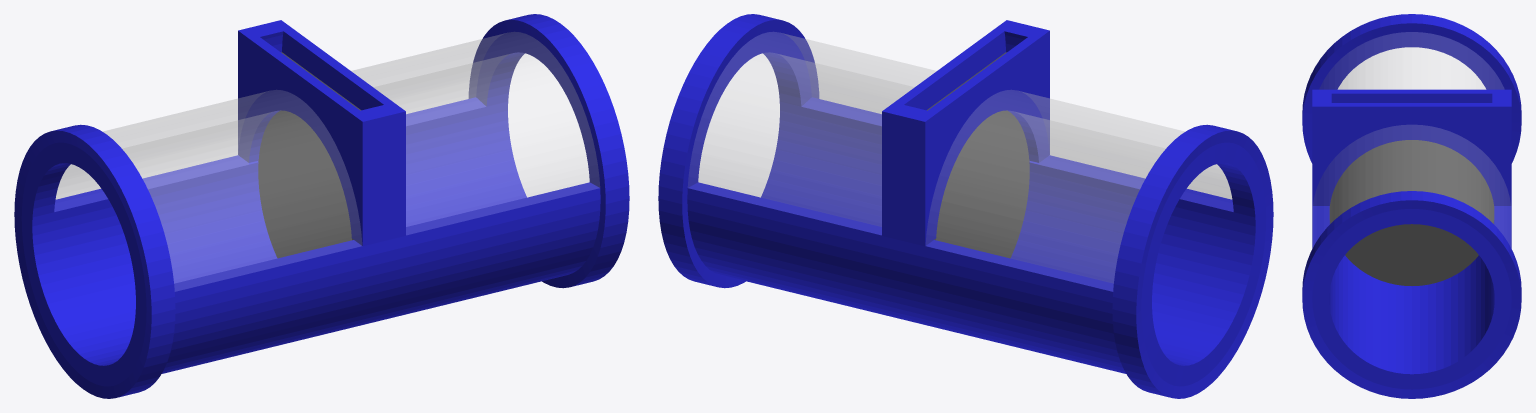
File: pipe with damper.fbx
3 views of the same model, side by side, from view 1: azimuth 30°, elevation 25°; view 2: azimuth 150°, elevation 25°; view 3: azimuth 270°, elevation 25° (orthographic). The views are drawn at different scales.
Visible parts, largest first — view 1: Pipe, Post, Damper; view 2: Pipe, Post, Damper; view 3: Pipe, Post, Damper.
Part boxes in pixels (x1,y1,x2,y2): Pipe: (14,14,629,398); Post: (238,20,405,246); Damper: (258,52,360,258); Pipe: (658,14,1273,398); Post: (882,20,1049,246); Damper: (927,52,1029,258); Pipe: (1302,14,1521,398); Post: (1312,89,1511,205); Damper: (1329,140,1494,285).
Size of the model in its own units: 442 by 230 by 220.
